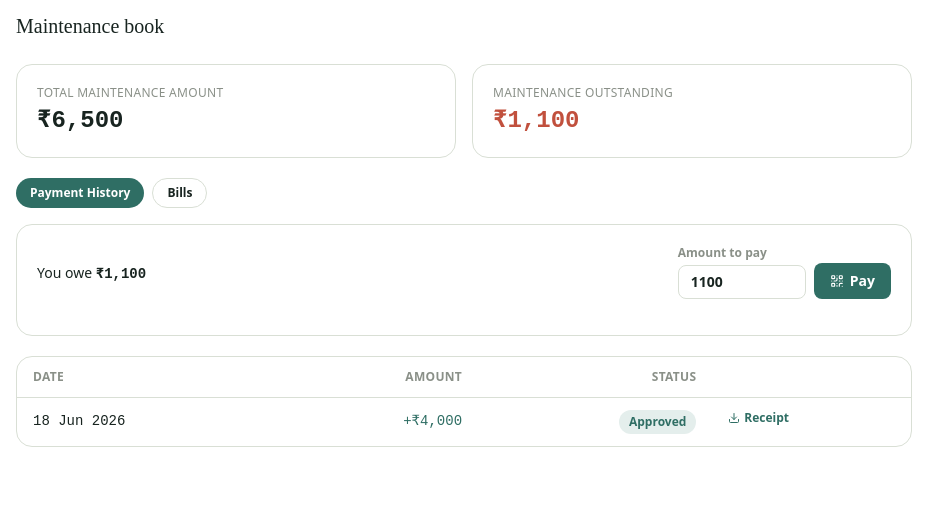
Test: MaintenanceBookPage › filters by date range
The image size is (929, 518).
Click the tab "Bills" at [180, 193], box left=152, top=178, right=207, bottom=208
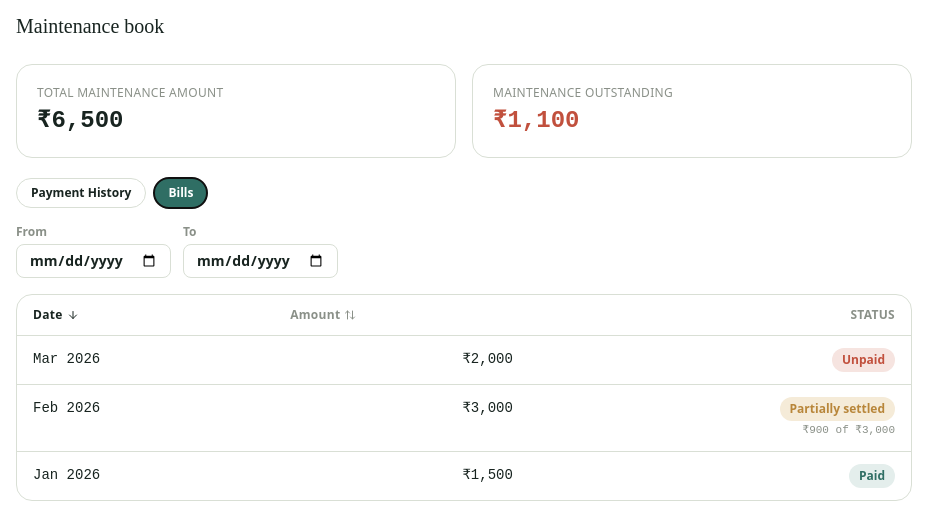
Result: the text "Mar 2026" is shown at left=33, top=351, right=100, bottom=367
Type "2026-02-01" into the date field labelled "From" at [94, 261], box left=16, top=244, right=171, bottom=278
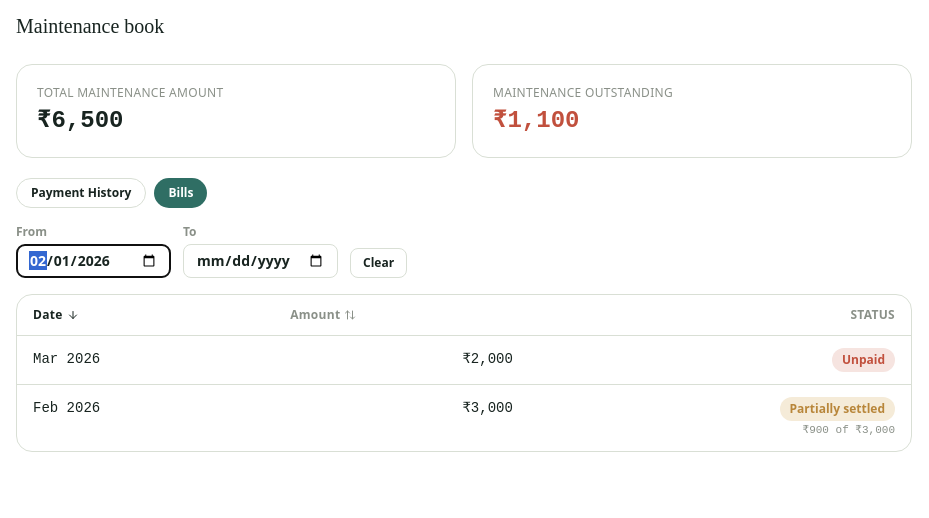
Result: the text "Feb 2026" is shown at left=33, top=400, right=100, bottom=416
Result: the text "Mar 2026" is shown at left=33, top=351, right=100, bottom=367
Result: the text "Jan 2026" is gone
